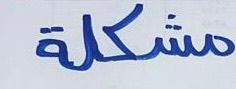kaf: (99, 3, 151, 65)
lam: (68, 9, 97, 73)
meem: (199, 29, 235, 60)
sheen: (153, 10, 197, 61)
teh_marbota: (32, 24, 66, 67)
